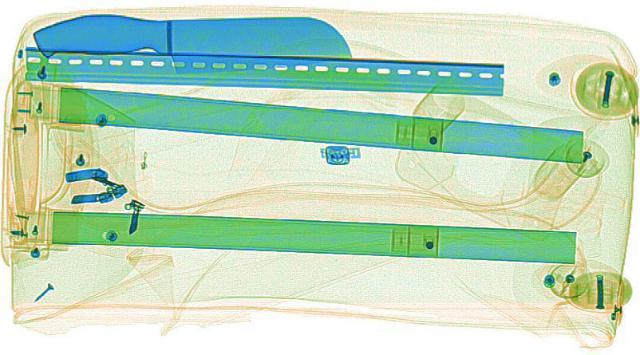Knife: (30, 11, 354, 74)
